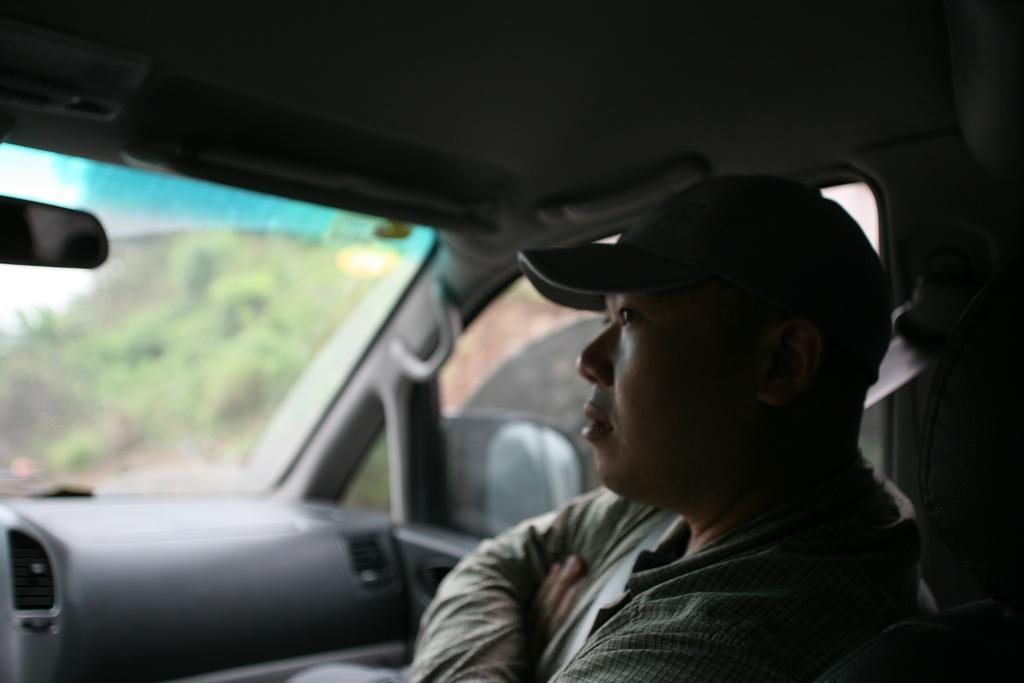Hat: (515, 173, 897, 352)
